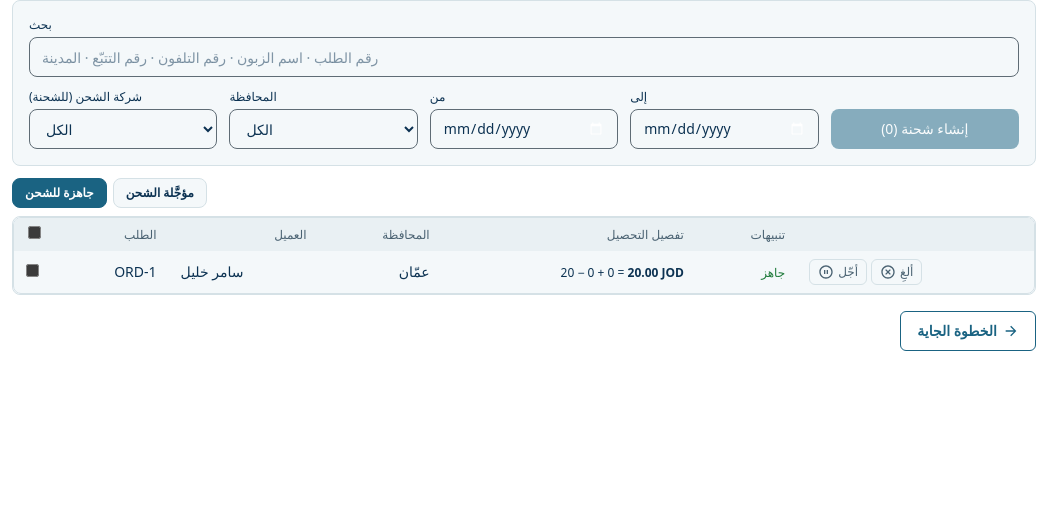
Test: a courier sent to by API › sends the batch just made through the batches door, then shows each order and offers the plain print
This screenshot has width=1053, height=517.
Expected: the text "سامر خليل" is shown, [180, 262, 244, 281]
Select "الباشا" in the dropdown labelled "شركة الشحن (للشحنة)": coordinates (123, 129) [29, 109, 217, 149]
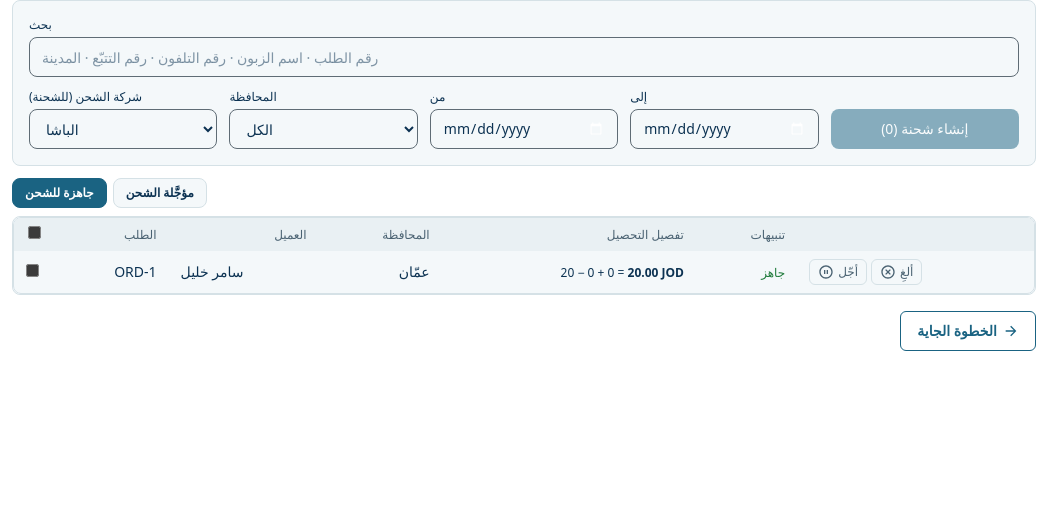
Click the checkbox named "اختر الكل": coordinates (34, 232) [28, 226, 40, 239]
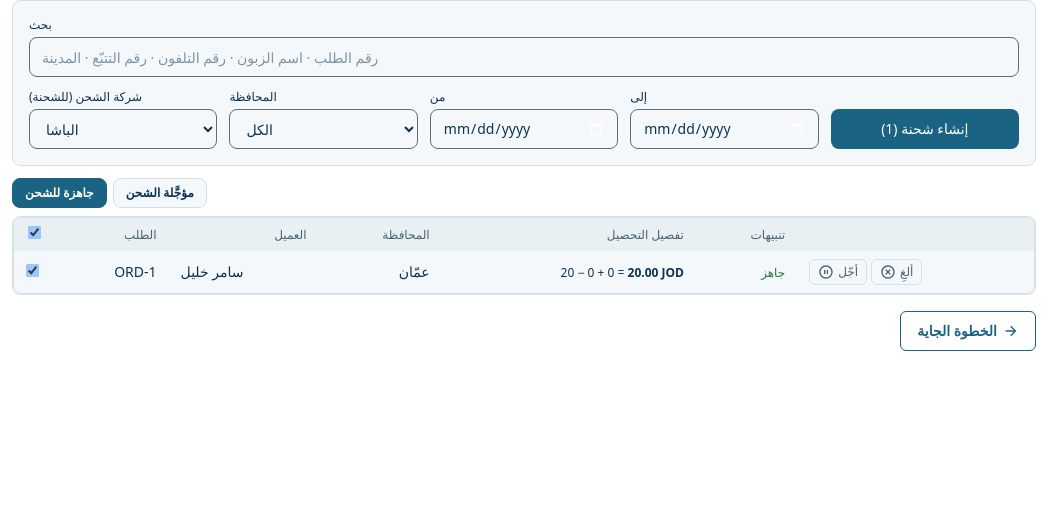
Click the button "إنشاء شحنة (1)": coordinates (925, 129) [831, 109, 1019, 149]
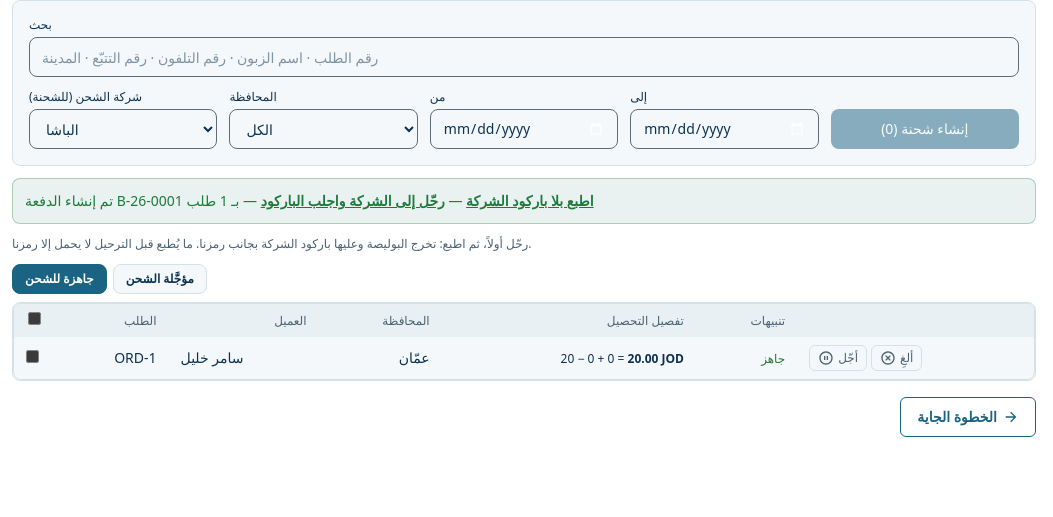
Result: the text "تم إنشاء الدفعة B-26-0001" is shown at [25, 191, 239, 210]
Click the button "رحّل إلى الشركة واجلب الباركود": coordinates (353, 201) [261, 191, 445, 211]
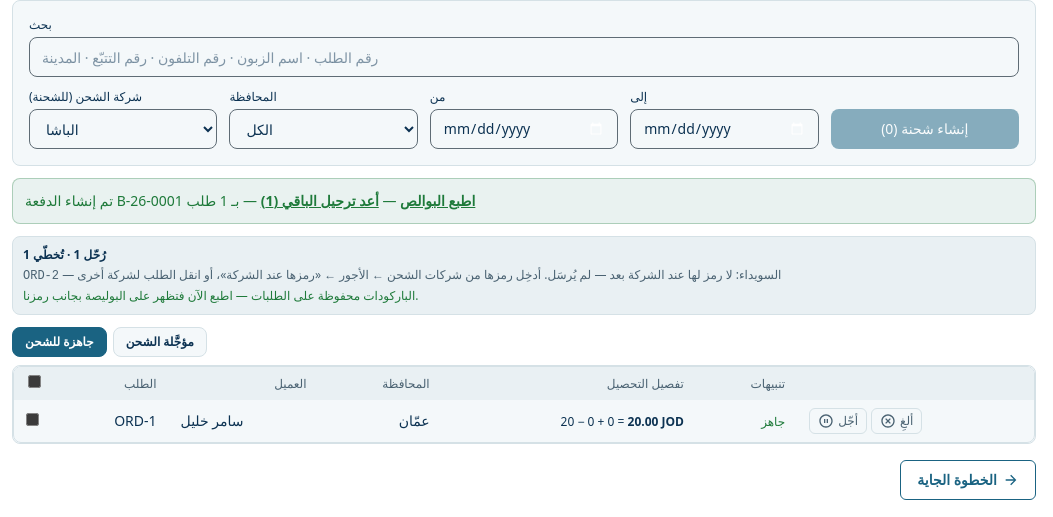
Result: the text "رُحّل 1 · تُخطّي 1" is shown at [23, 246, 106, 263]
Result: the text "السويداء: لا رمز لها عند الشركة بعد" is shown at [77, 266, 782, 283]
Result: the button "اطبع البوالص" is shown at [400, 191, 475, 211]
